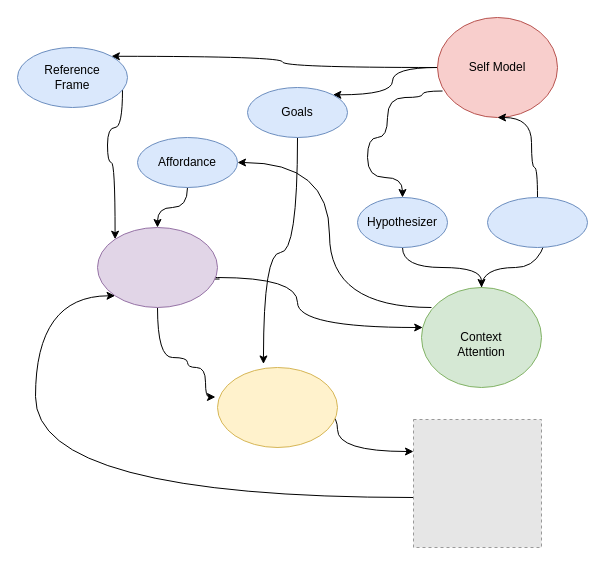
This 605x565 diagram has some shape labels left out. Grey dashed boxes stand in for pictures. The shapes that lost their labels are listed below. From the top down, each one's centre as x and y in pixels, then its label:
the point at 537,222: Explainer
the point at 157,267: Perception
the point at 277,407: Goals Intention Action
